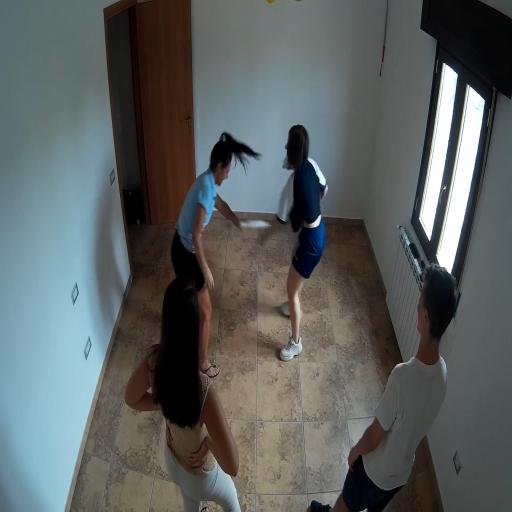violencia: (157, 113, 339, 371)
